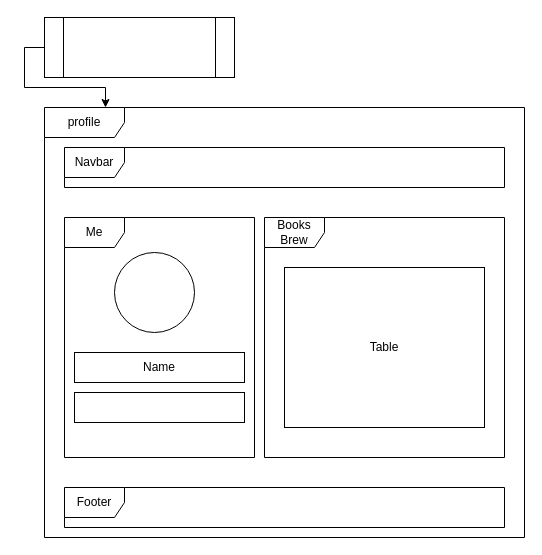
Some shapes in this 542 by 555 pixel diagram are drawn without their labels. Each missing label, with the centre of its shape:
"Avatar" goes at point (154, 292).
"Email" goes at point (159, 407).
"Frontend" goes at point (139, 47).
